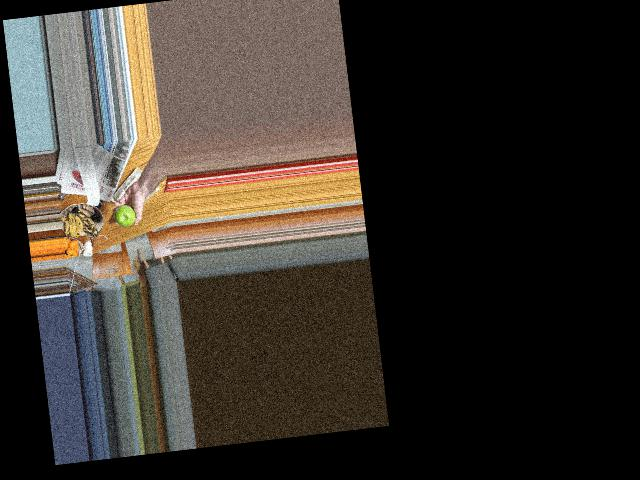apple: (113, 199, 136, 232)
